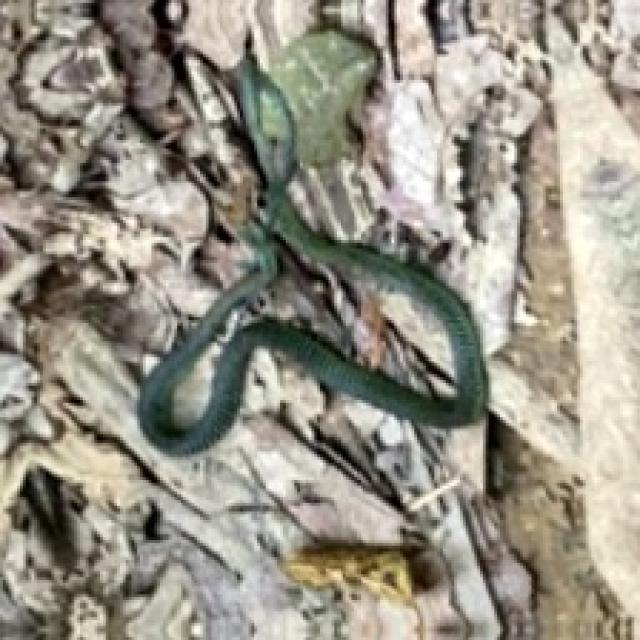paradise tree snake: (137, 29, 486, 451), (186, 243, 454, 409)
